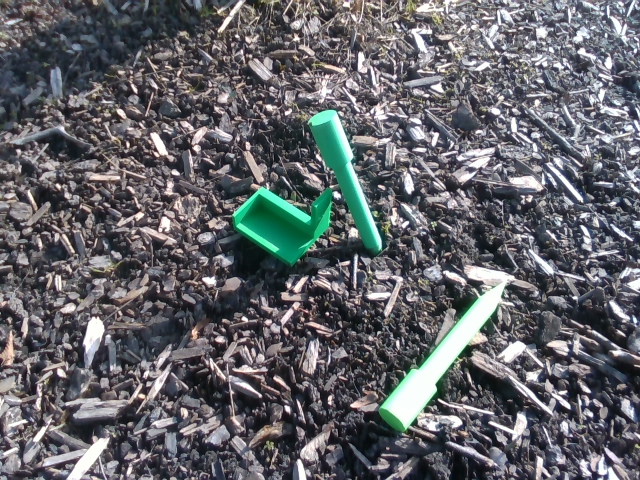Probe: (374, 272, 516, 439), (304, 105, 388, 260)
